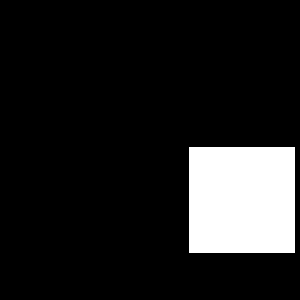circle: (189, 147, 295, 253)
